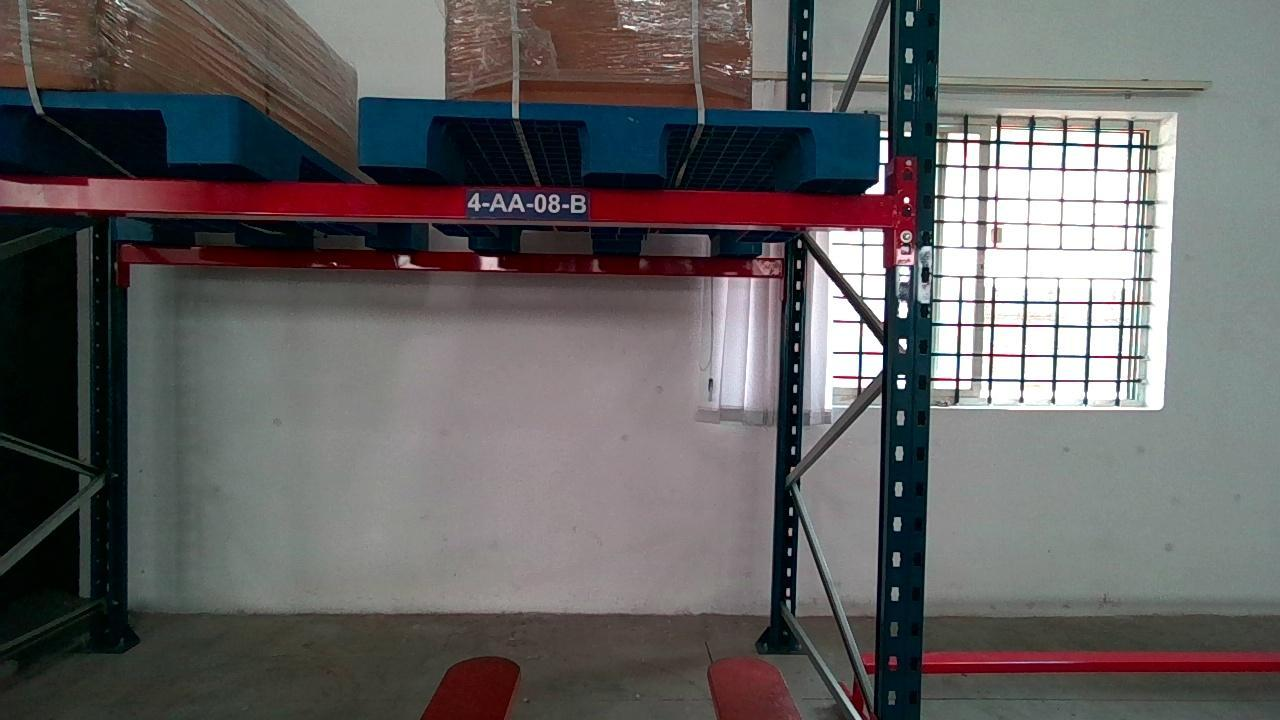h_rack: (2, 171, 903, 226)
small_pallet: (360, 98, 880, 180), (4, 88, 234, 162)
